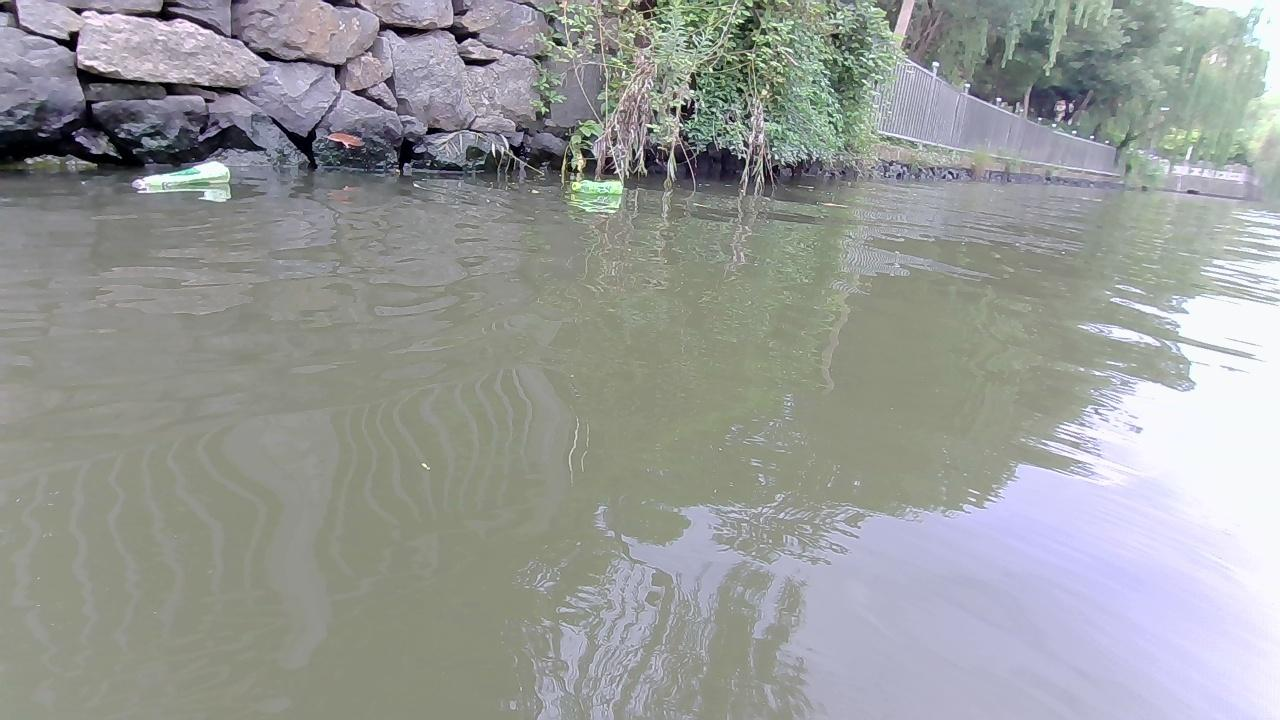bottle: (129, 159, 230, 189), (570, 179, 622, 194)
